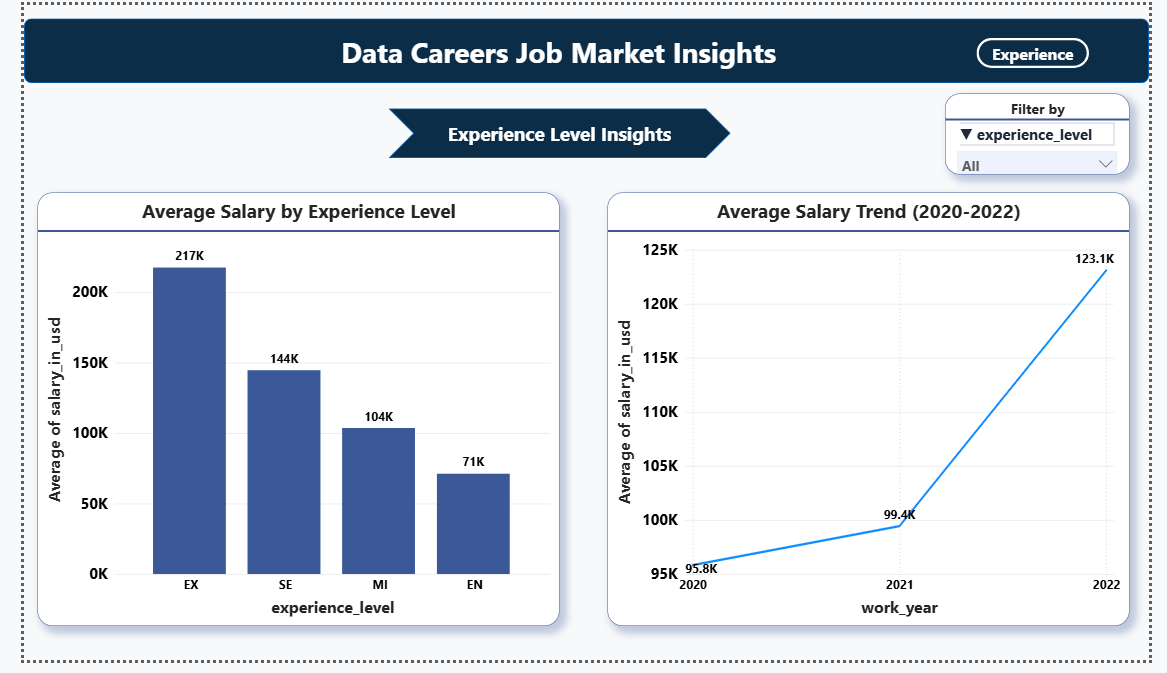

This screenshot's page, from the dashboard's own definition file:
{"tool":"powerbi","page":{"name":"Experience work","canvas":[1500,873],"ordinal":1},"visuals":[{"type":"shape","box":[0,18,1500,86],"z":0},{"type":"textbox","box":[380,32,666,72],"z":1000},{"type":"actionButton","box":[1270,44,150,40],"z":2000},{"type":"slicer","title":"Filter by","fields":{"Values":["job_market salaries.experience_level"]},"box":[1228,118,246,108],"z":3000},{"type":"clusteredColumnChart","title":"Average Salary by Experience Level","fields":{"Y":["Avg(job_market salaries.salary_in_usd)"],"Category":["job_market salaries.experience_level"]},"box":[18,250,696,578],"z":4000},{"type":"lineChart","title":"Average Salary Trend (2020-2022)","fields":{"Y":["Avg(job_market salaries.salary_in_usd)"],"Category":["job_market salaries.work_year"]},"box":[778,250,696,578],"z":5000},{"type":"shape","box":[486,138,456,66],"z":6000}]}

Visuals, with their boxes in screenshot pixels (x1, y1, x2, y2), scaled from the page's 1500x873 canvas onto the 1167x673 screenshot:
shape: 0:14:1166:80
textbox: 296:25:814:80
actionButton: 988:34:1105:65
"Filter by" slicer: 955:91:1147:174
"Average Salary by Experience Level" clusteredColumnChart: 14:193:555:638
"Average Salary Trend (2020-2022)" lineChart: 605:193:1147:638
shape: 378:106:733:157
